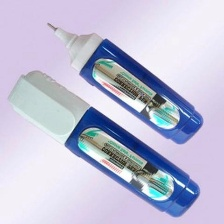correction_fluid: (5, 67, 201, 219), (43, 19, 206, 147)
